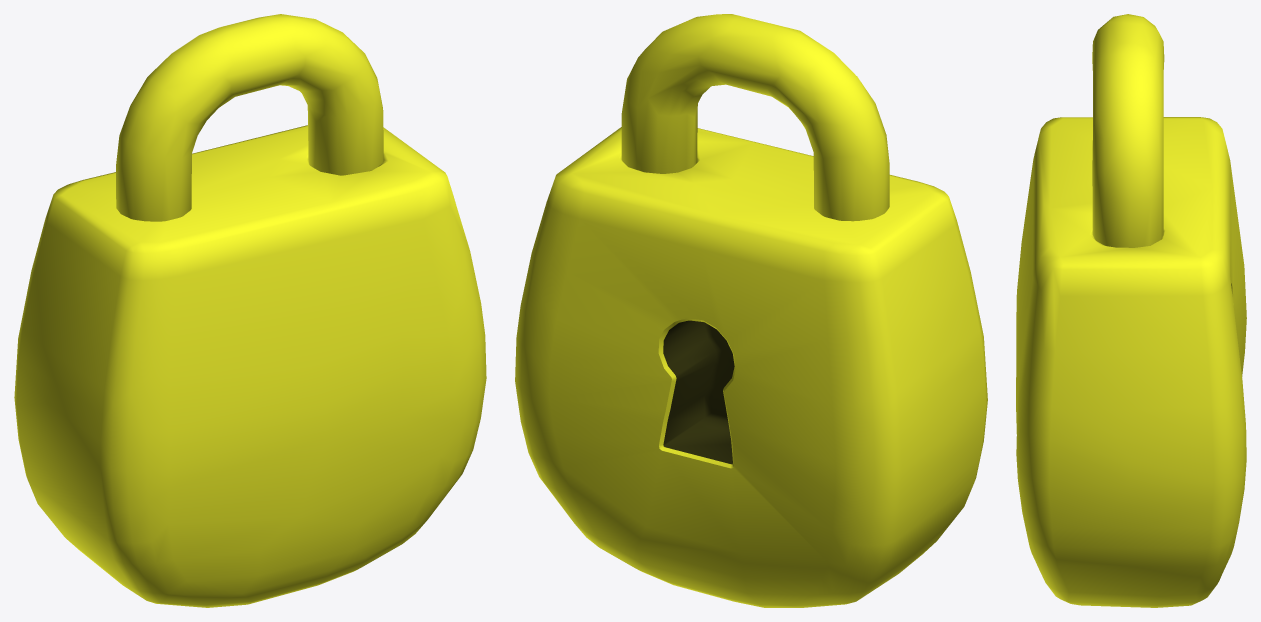
File: Lock1.fbx
3 renders of one model, left to right at view 1: azimuth 30°, elevation 25°; view 2: azimuth 150°, elevation 25°; view 3: azimuth 270°, elevation 25°, orthographic. The views are drawn at different scales.
Visible parts, largest first — view 1: lock_01, closure_03.001; view 2: lock_01, closure_03.001, lock_01.001; view 3: lock_01, closure_03.001.
Boxes of the visible parts, x1,y1,x2,y2 form: lock_01: (14,125,486,607); closure_03.001: (116,14,383,221); lock_01: (515,127,987,607); closure_03.001: (621,14,889,221); lock_01.001: (663,320,734,464); lock_01: (1016,117,1246,607); closure_03.001: (1092,14,1164,247).
Size of the model in its own units: 335 by 461 by 178.
